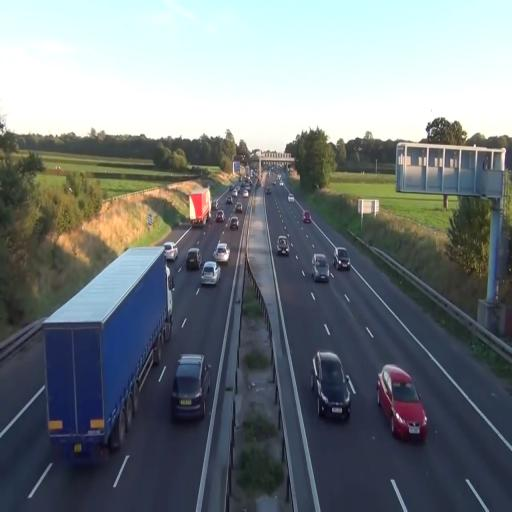vehicle: (376, 365, 428, 442), (312, 351, 354, 421), (170, 354, 206, 422), (189, 188, 210, 226), (200, 260, 221, 288), (312, 252, 330, 283), (334, 248, 351, 273), (214, 240, 230, 264), (186, 249, 201, 272), (276, 234, 290, 255), (164, 243, 178, 262), (214, 208, 224, 222)
